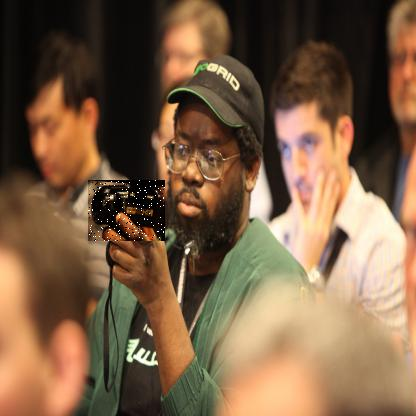Camera: (89, 182, 167, 244)
